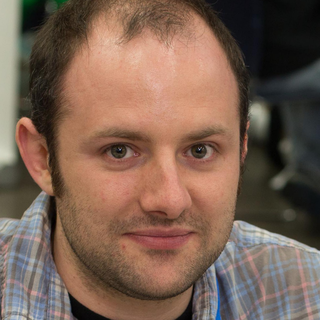eye: (95, 139, 145, 165), (179, 138, 223, 165)
